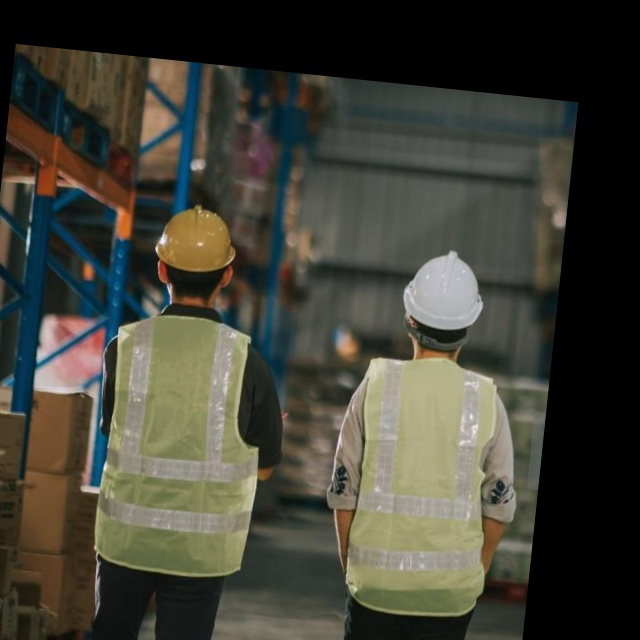Con_Casco: (396, 244, 491, 354), (150, 200, 243, 310)
Con_Chaleco: (94, 308, 279, 581), (338, 347, 515, 626)
